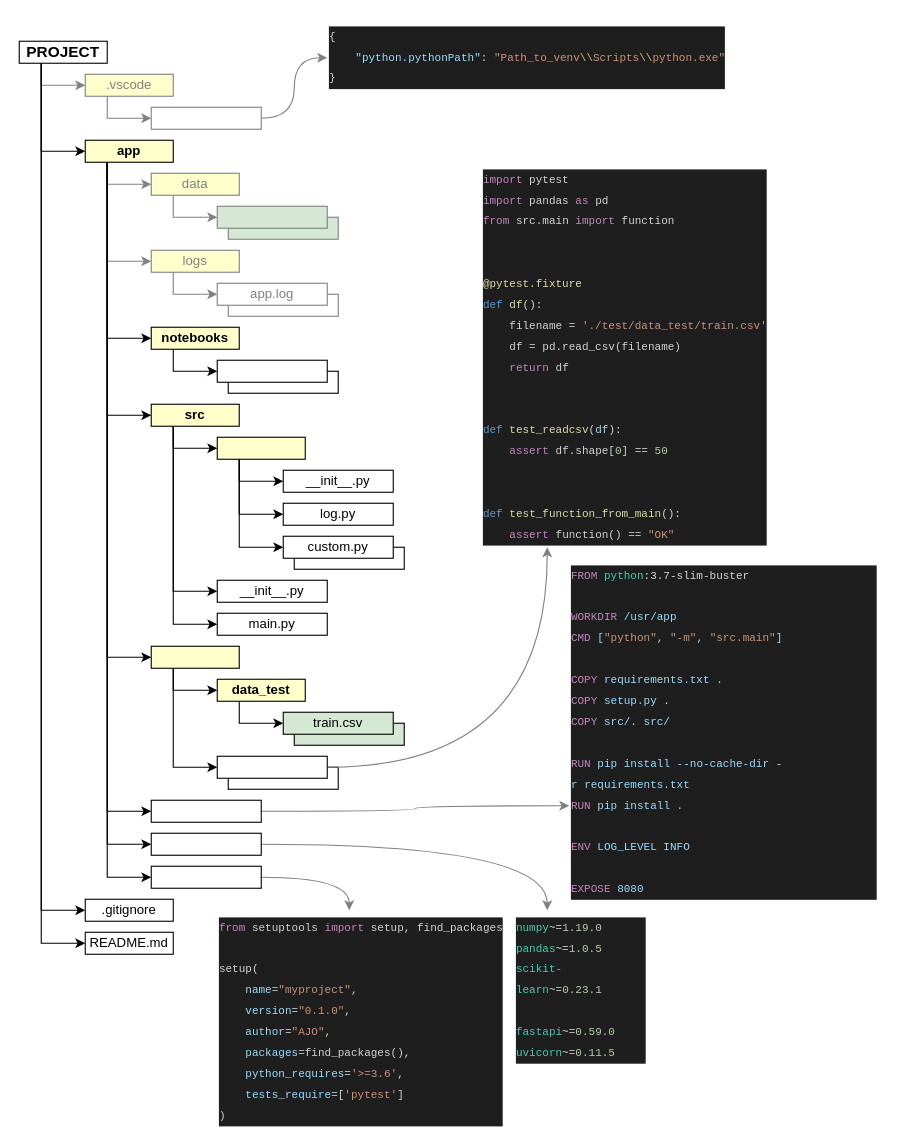
This 897x1148 diagram has some shape labels left out. The box of each missing label's shape, as (x1, y1, x2, y2) in pixels:
dataset.csv: (216, 205, 327, 228)
Dockerfile: (150, 799, 261, 822)
mylib: (216, 436, 305, 459)
notebook.ipynb: (216, 359, 327, 382)
requirements.txt: (150, 832, 261, 855)
settings.json: (150, 106, 261, 129)
setup.py: (150, 865, 261, 888)
test: (150, 645, 239, 668)
unit_test.py: (216, 755, 327, 778)
